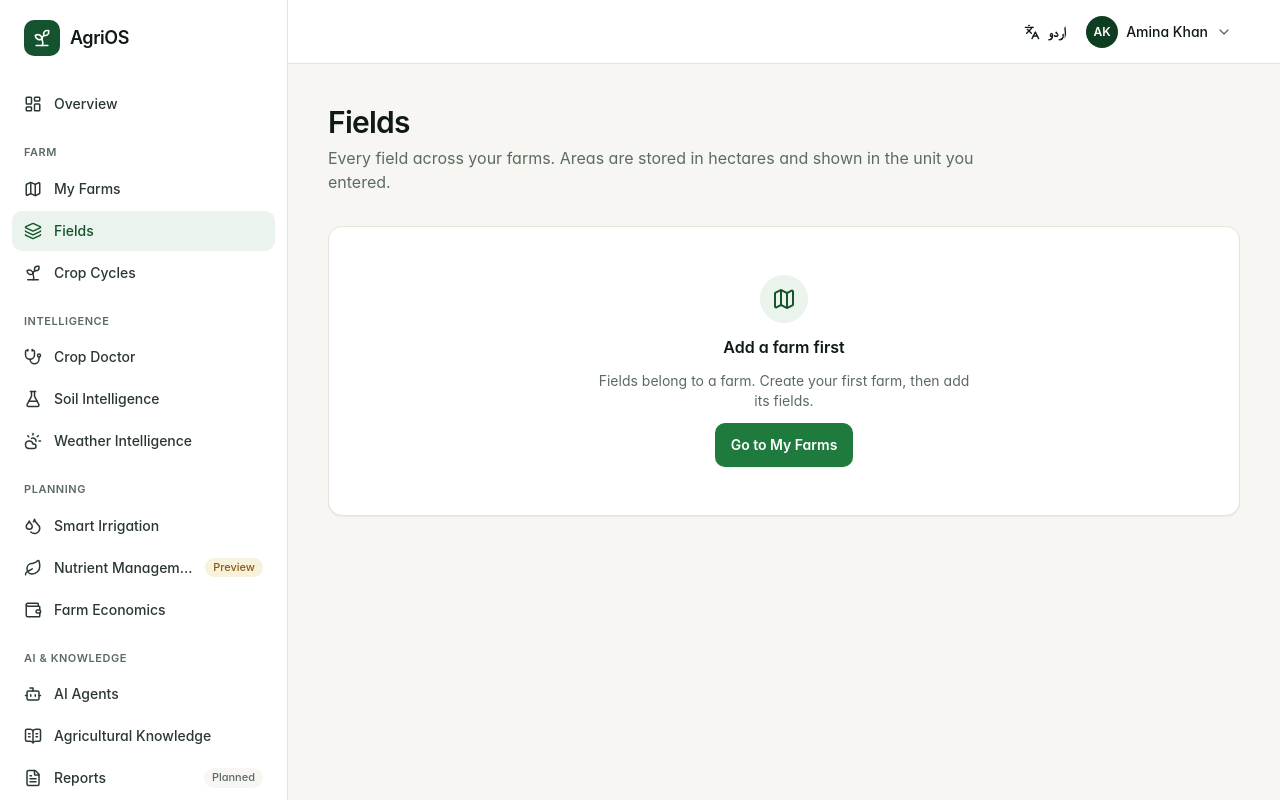
Scenario: routing and shell › signs out from the account menu
Click the button named "account menu": (1161, 32) [1082,12,1240,52]
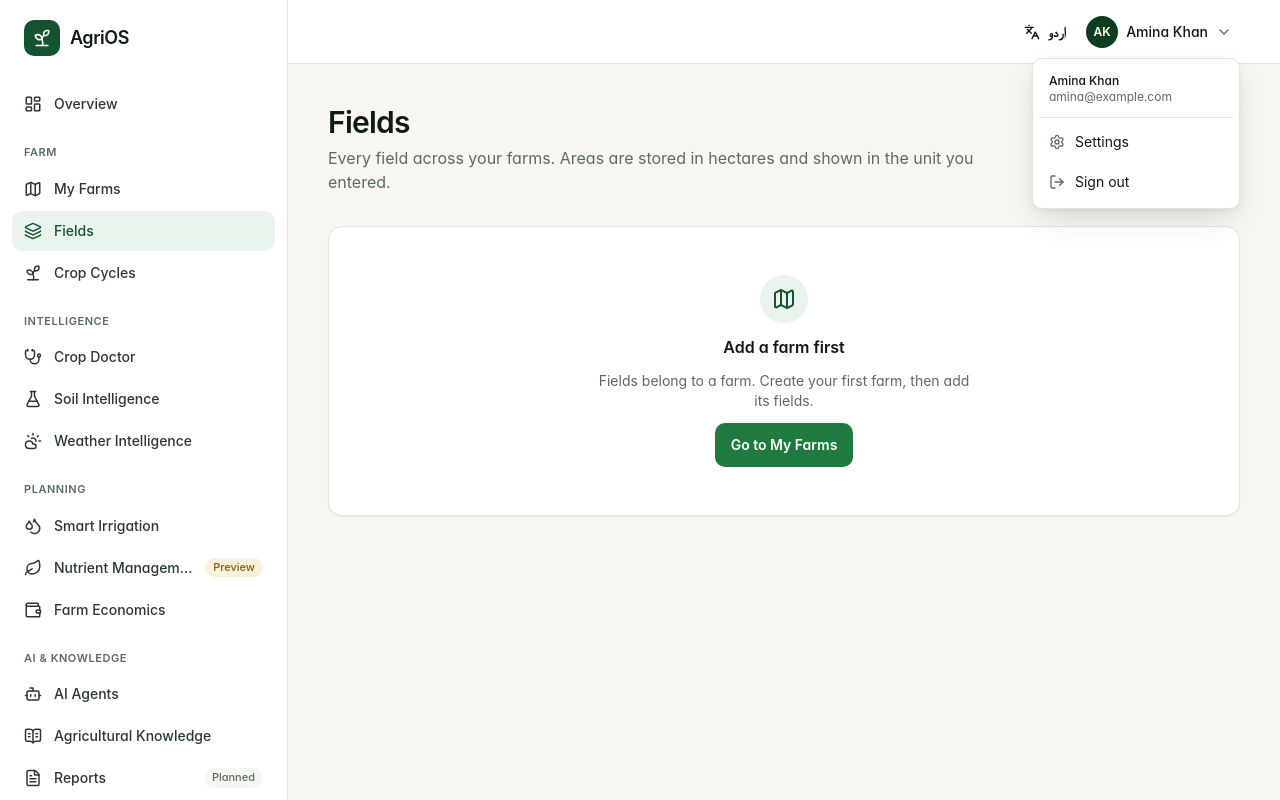
Click the menu item "Sign out": (1089, 182) [1049,173,1129,190]
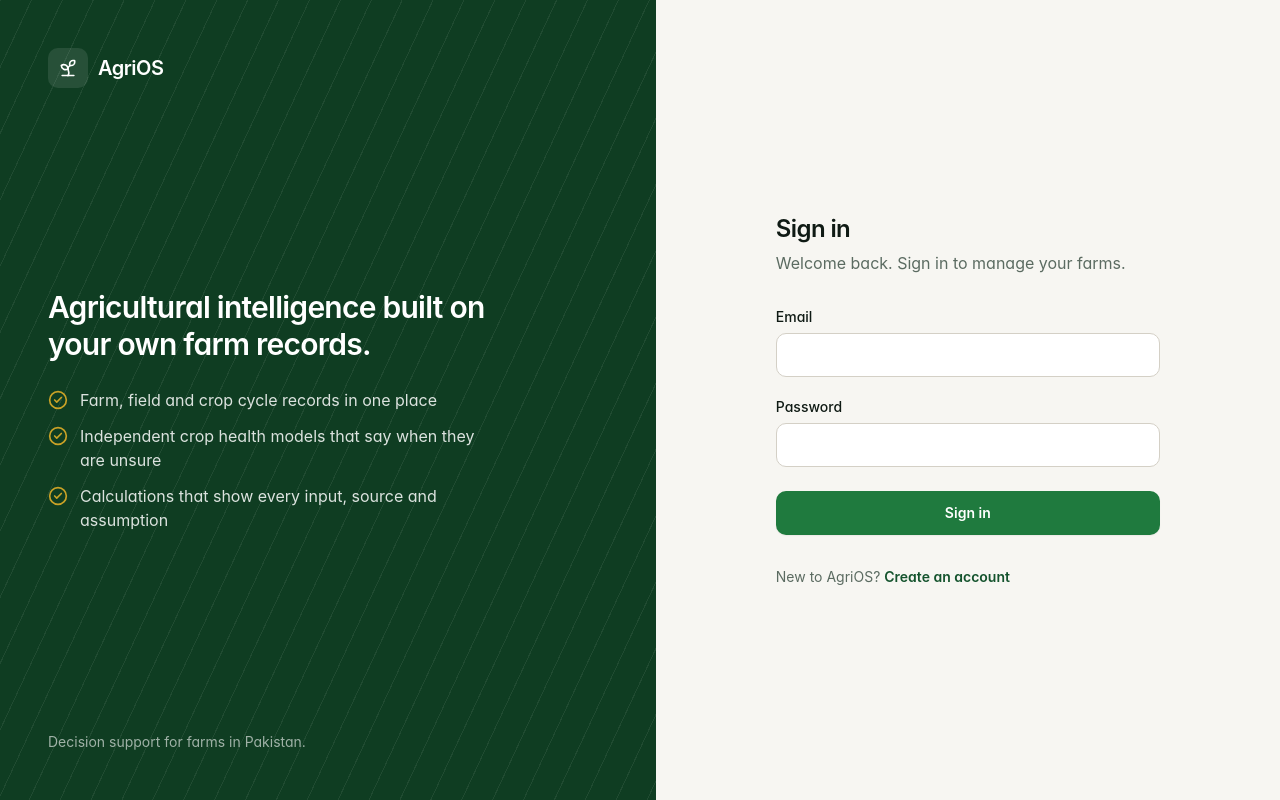
expect the heading "Sign in" is shown: met, box [776,214,850,243]
